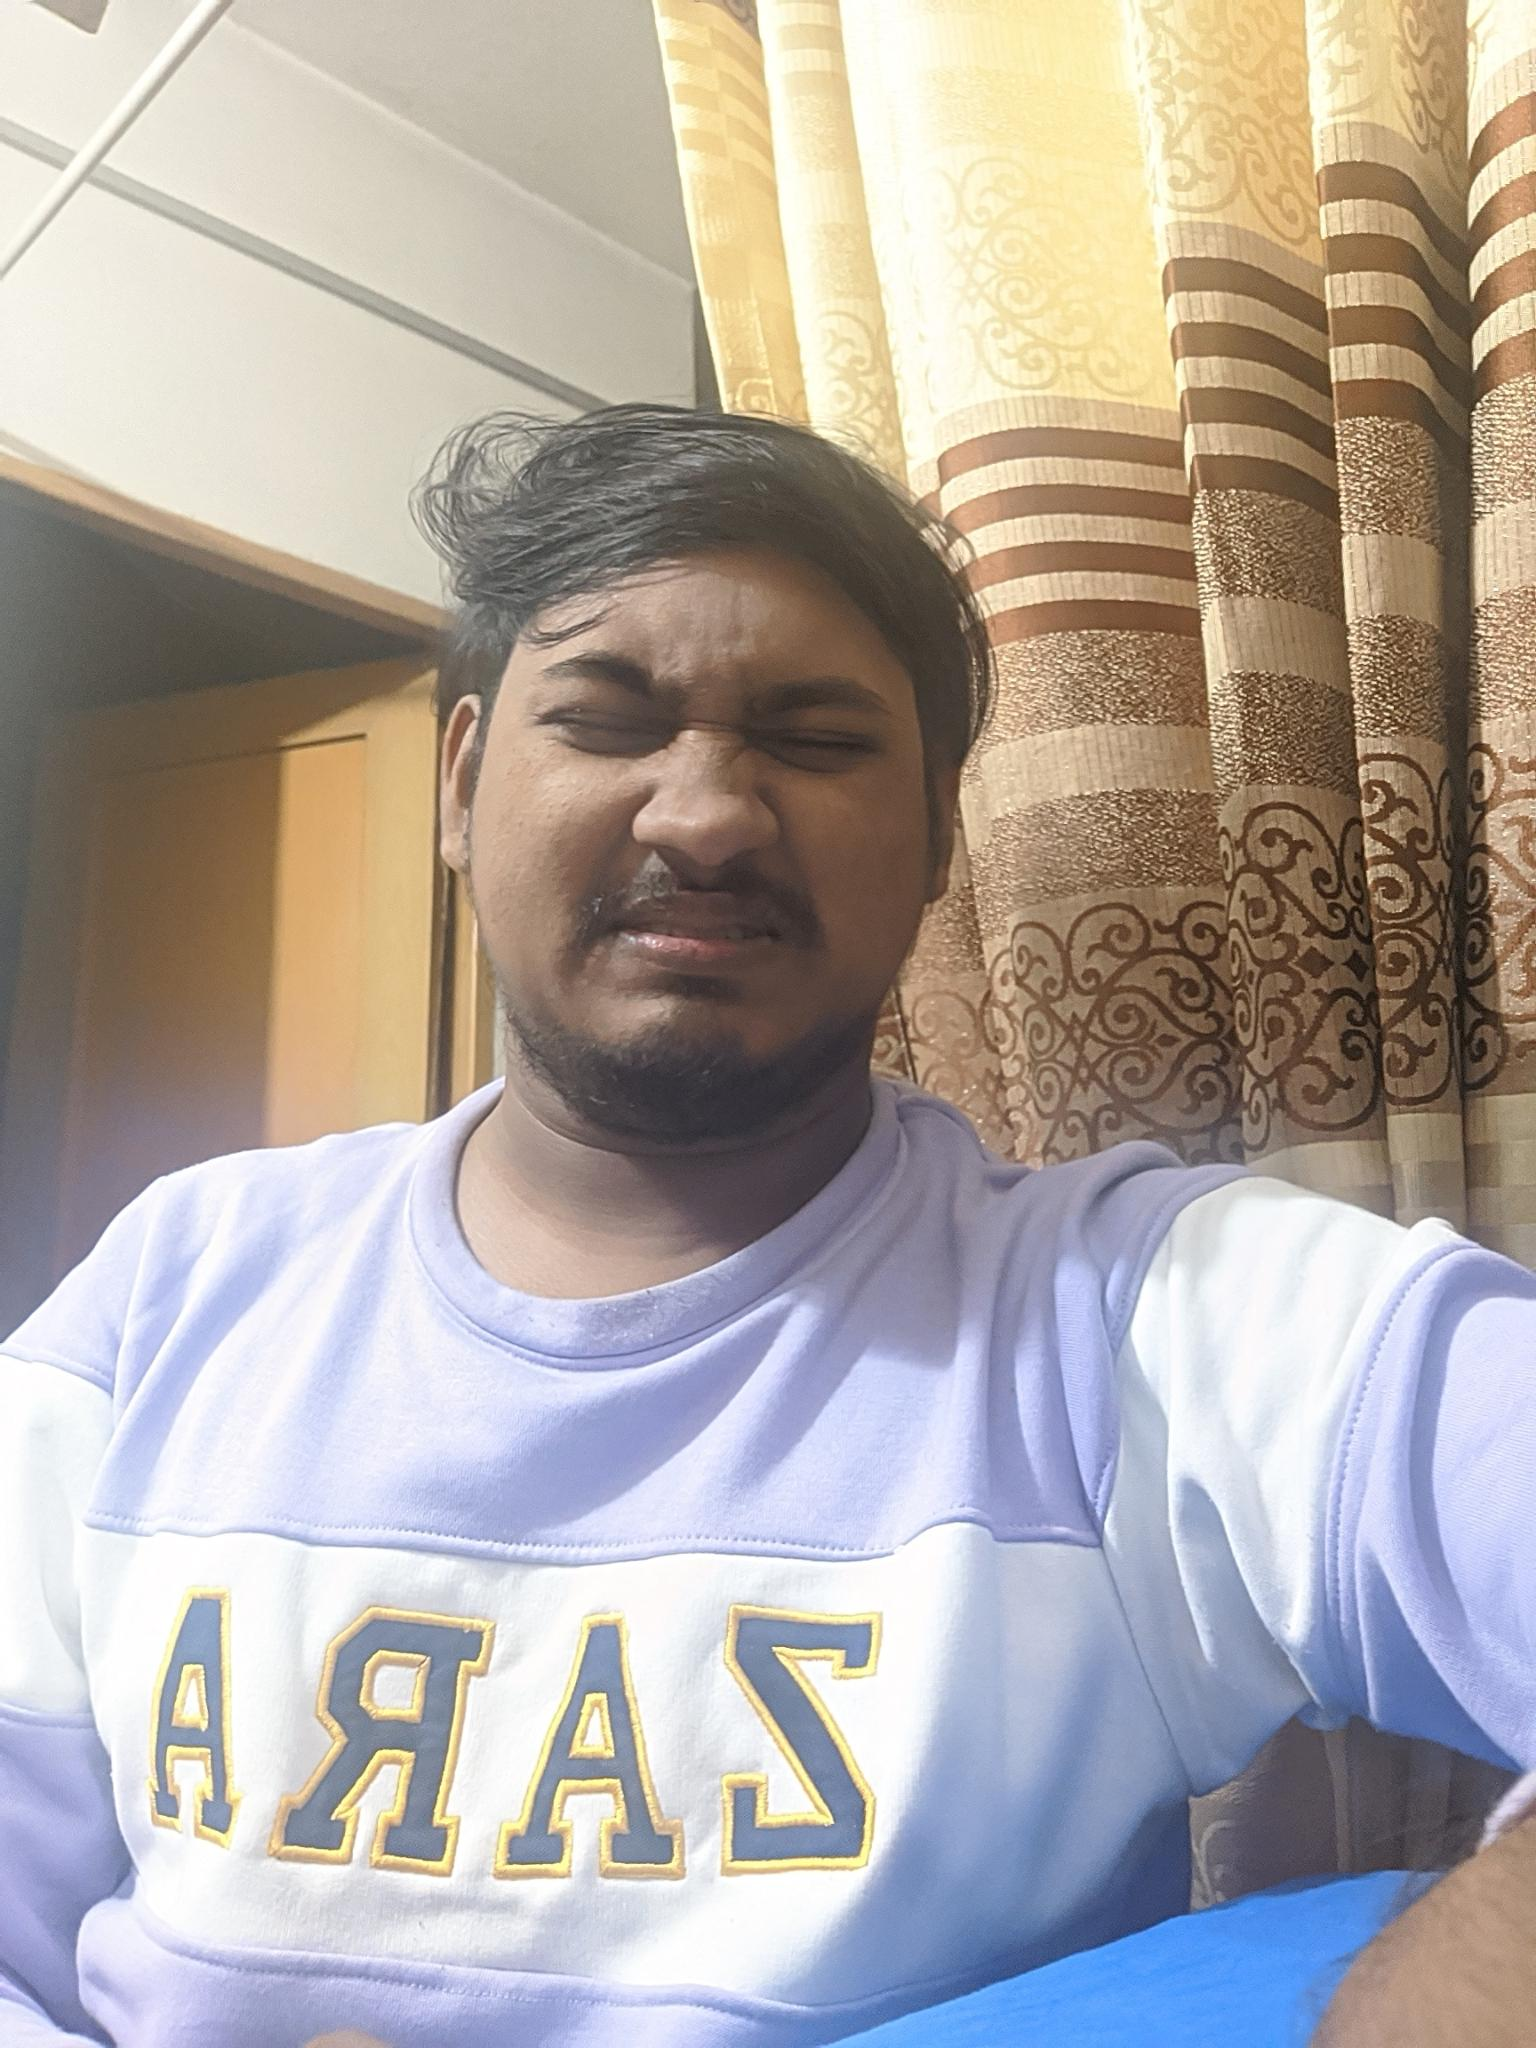Disgust: (511, 569, 916, 1098)
